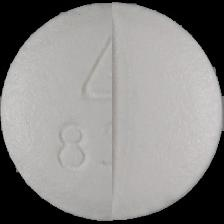63187-546: (0, 0, 224, 224)
